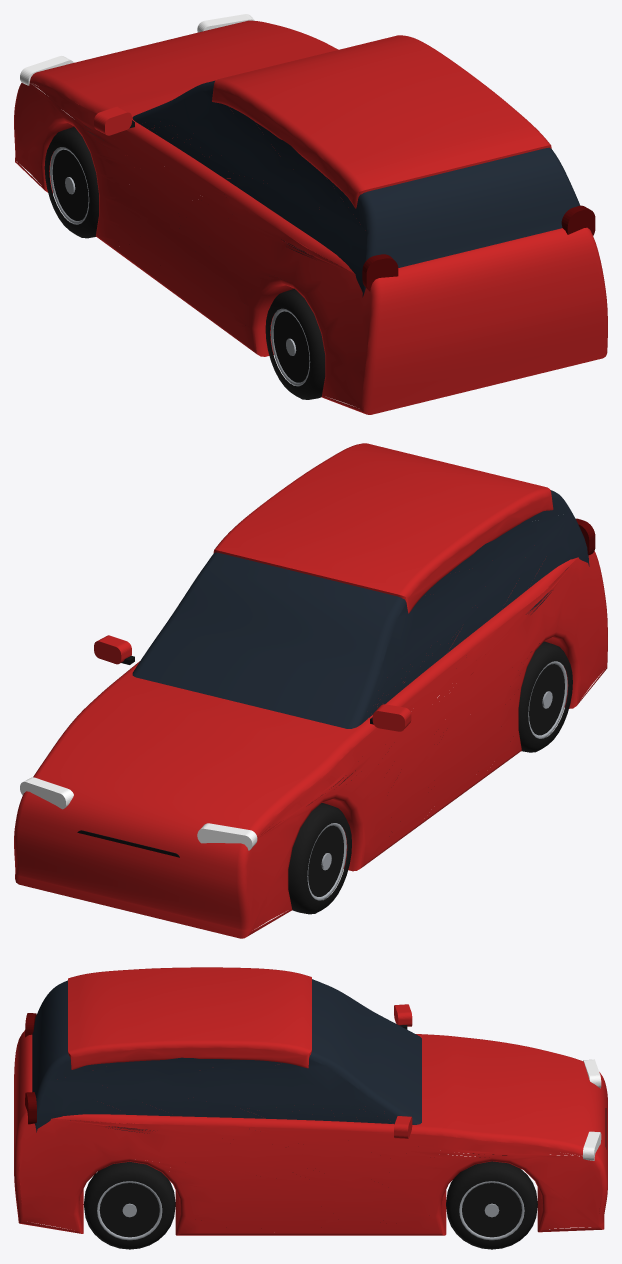
The model's file is hatch.glb.
3 views of the same model, one above another, from view 1: azimuth 30°, elevation 25°; view 2: azimuth 150°, elevation 25°; view 3: azimuth 270°, elevation 25° (orthographic). The views are drawn at different scales.
Visible parts, largest first — view 1: Body, Glass, Tire_RL, Tire_FL, Taillights, Headlights, Rim_RL, Rim_FL; view 2: Body, Glass, Tire_FL, Tire_RL, Headlights; view 3: Body, Glass, Tire_FR, Tire_RR, Rim_FR, Rim_RR, Headlights, Taillights.
Part boxes in pixels (<box>): Body: <box>14,20,607,414</box>; Glass: <box>132,80,580,297</box>; Tire_RL: <box>265,289,325,399</box>; Tire_FL: <box>44,126,103,238</box>; Taillights: <box>362,205,595,291</box>; Headlights: <box>20,14,254,86</box>; Rim_RL: <box>270,308,310,386</box>; Rim_FL: <box>50,147,89,224</box>; Body: <box>14,443,607,938</box>; Glass: <box>132,490,589,728</box>; Tire_FL: <box>288,802,351,914</box>; Tire_RL: <box>518,641,572,752</box>; Headlights: <box>20,777,257,850</box>; Body: <box>14,967,607,1235</box>; Glass: <box>32,979,421,1133</box>; Tire_FR: <box>446,1161,537,1249</box>; Tire_RR: <box>83,1161,175,1249</box>; Rim_FR: <box>459,1181,524,1240</box>; Rim_RR: <box>97,1181,162,1240</box>; Headlights: <box>582,1059,601,1160</box>; Taillights: <box>25,1013,36,1124</box>.
Bounding box in the file's own units: 2.07 × 1.53 × 4.18.
